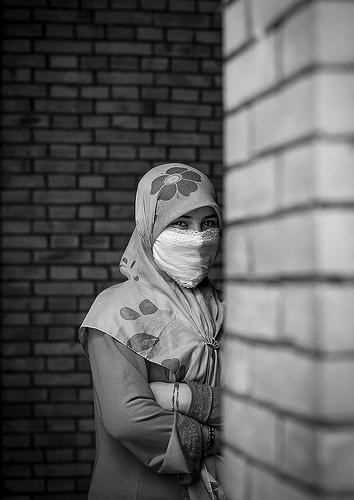OK: (148, 201, 229, 282)
